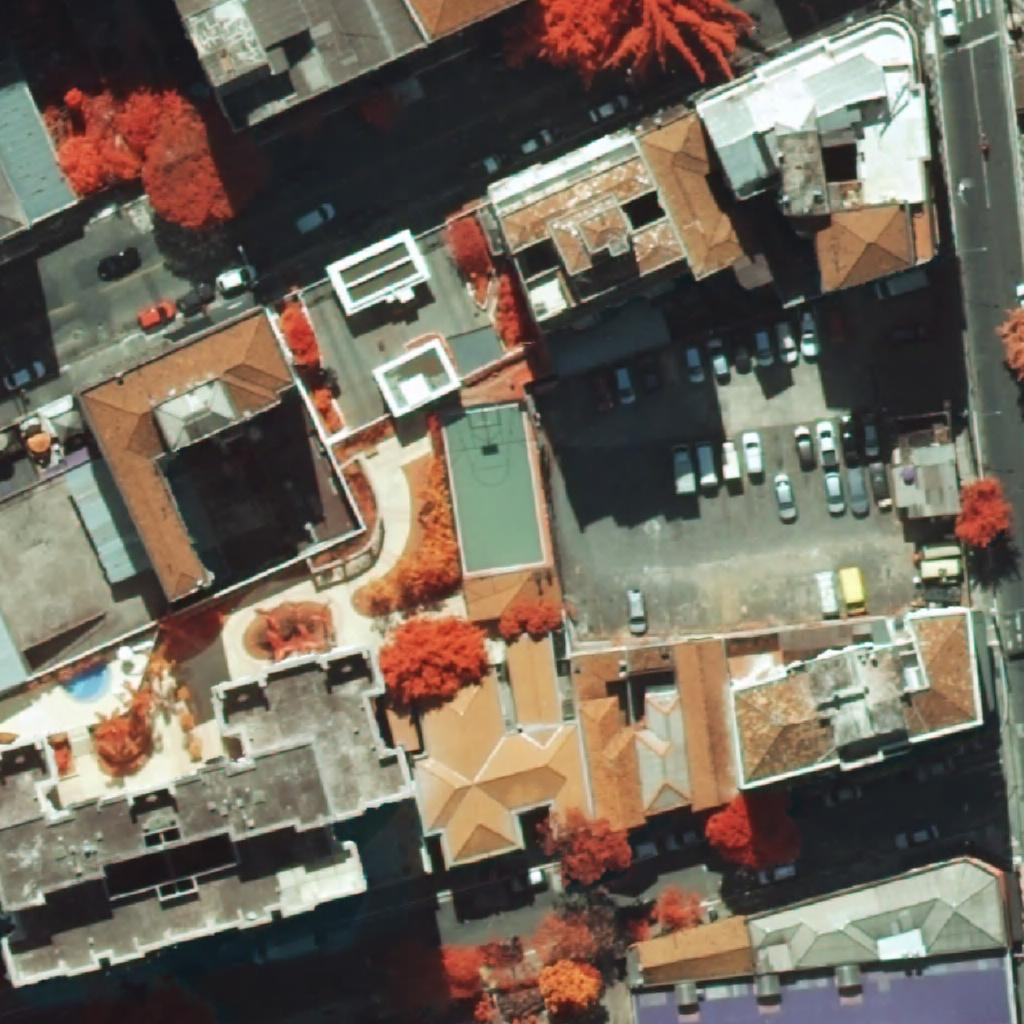pool: (62, 665, 108, 700)
